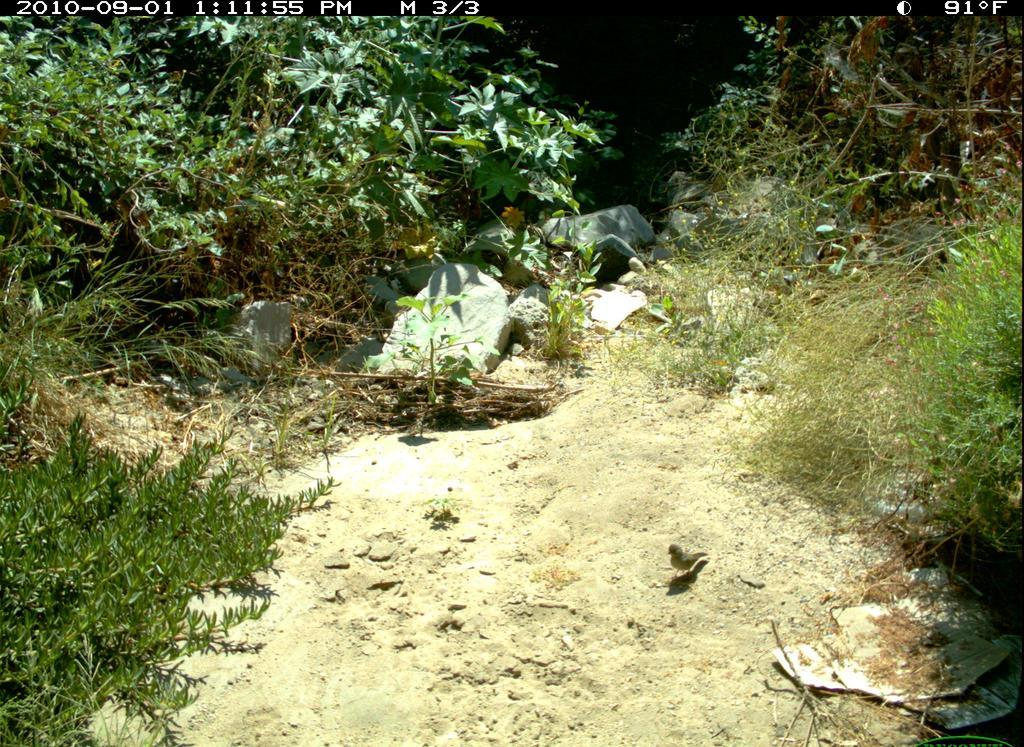bird: (649, 539, 723, 584)
